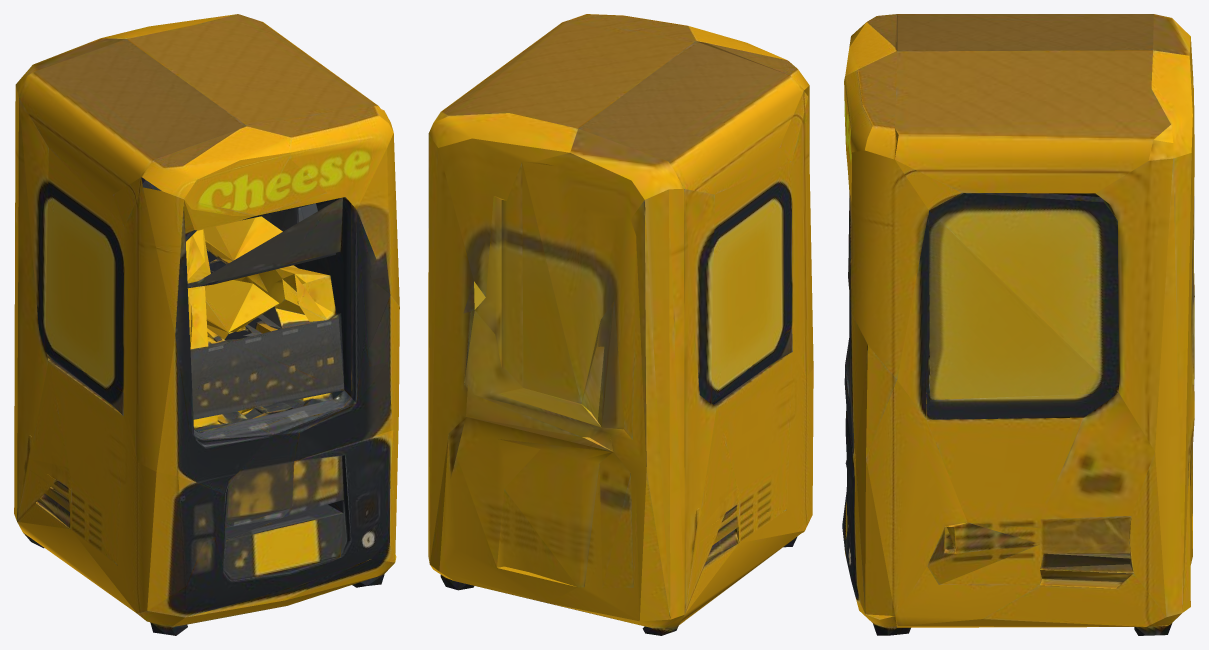
File: vending.glb
3 renders of one model, left to right at view 1: azimuth 30°, elevation 25°; view 2: azimuth 150°, elevation 25°; view 3: azimuth 270°, elevation 25°, orthographic. The views are drawn at different scales.
Bounding box in the file's own units: 1.06 × 1.9 × 1.17.
1 material, 1 textured.
